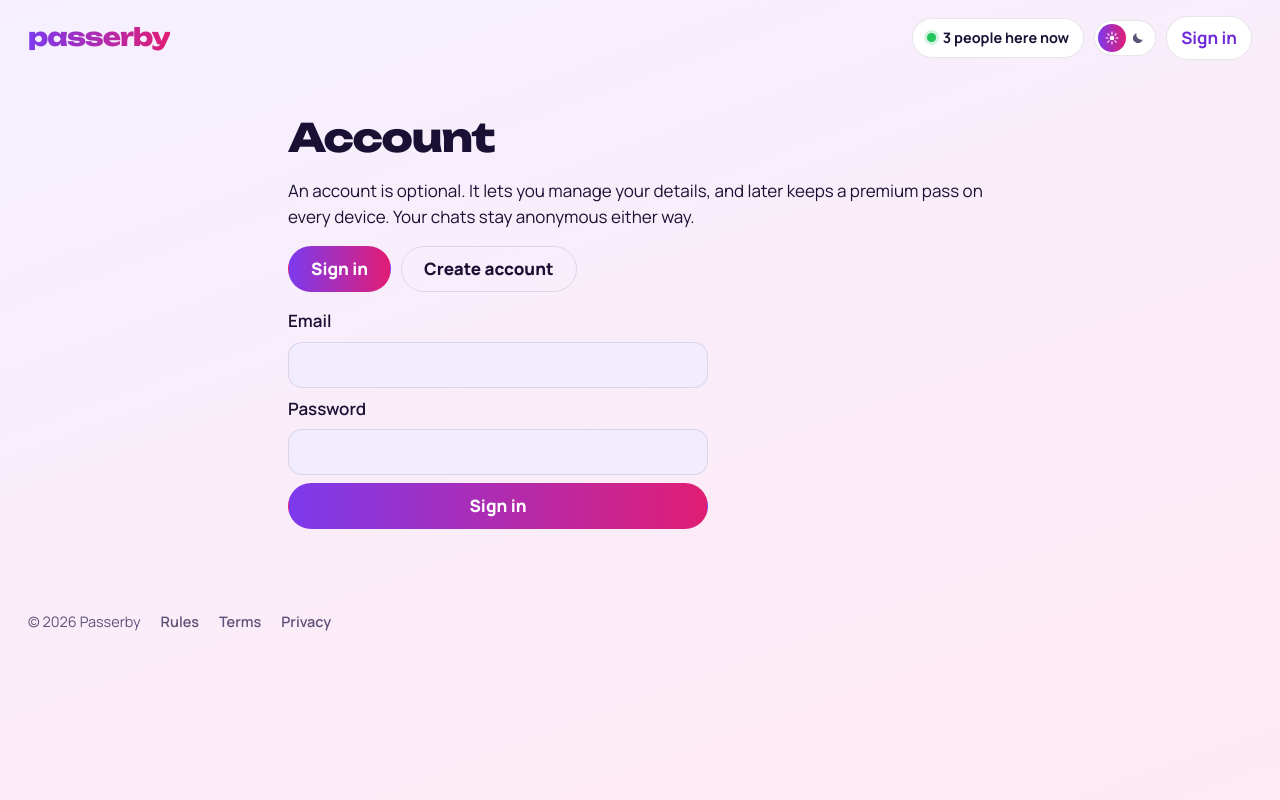
Scenario: the question on the sign-up form › asks how the person identifies, with Male and Female, and nothing chosen at first
The image size is (1280, 800).
Expected: the form "Sign in" is shown, x1=288 y1=308 x2=708 y2=529
What coordinates should you click on to do the following:
click the button "Create account"
I would click on:
 (489, 269)
Its box is x1=401 y1=246 x2=576 y2=292.
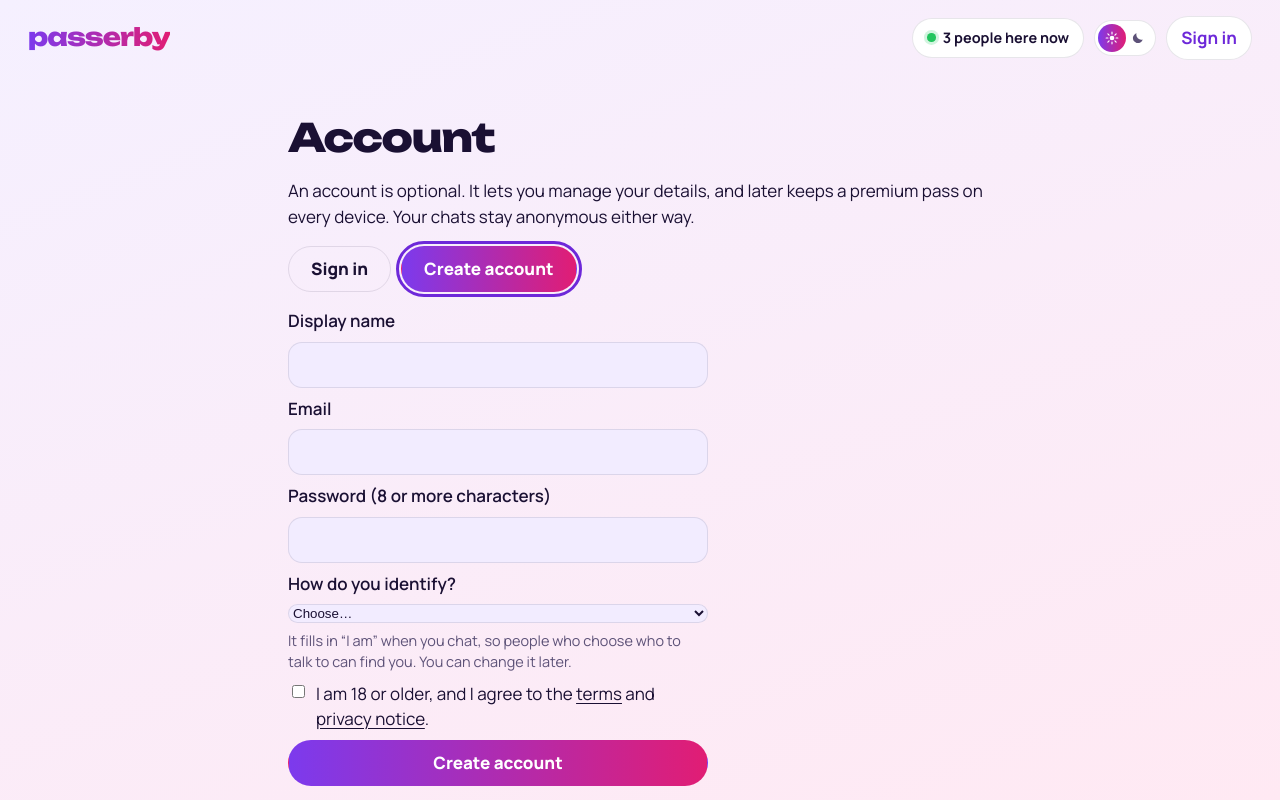
Expected: the dropdown labelled "How do you identify?" shows "Choose…", x1=288 y1=604 x2=708 y2=623
